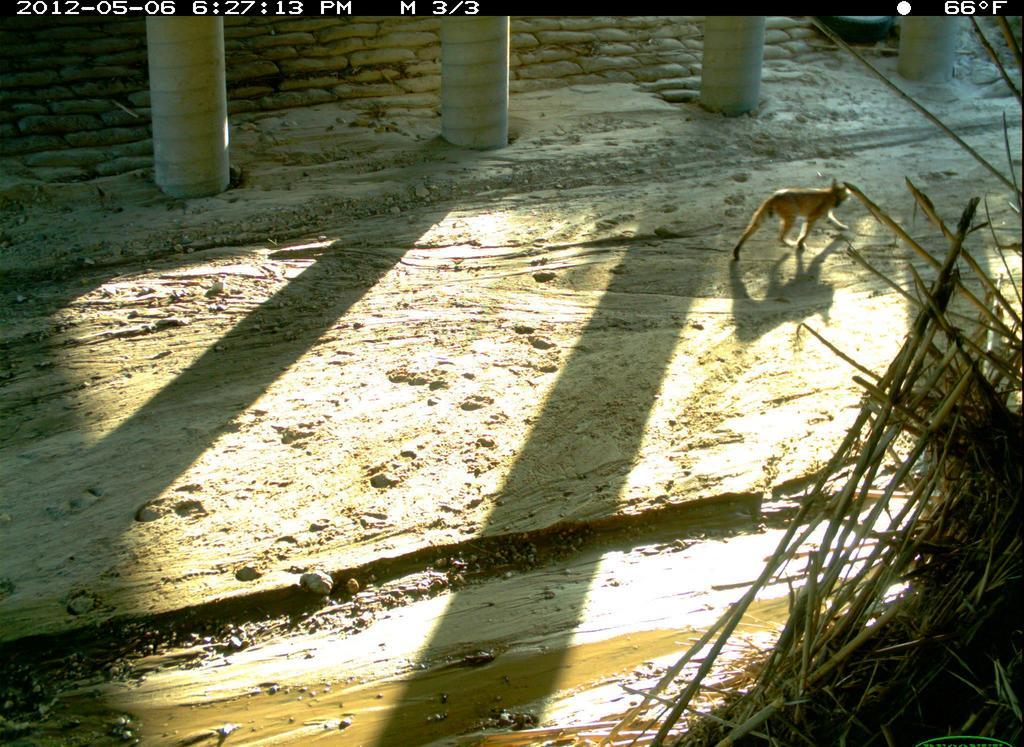bobcat: (733, 171, 853, 263)
